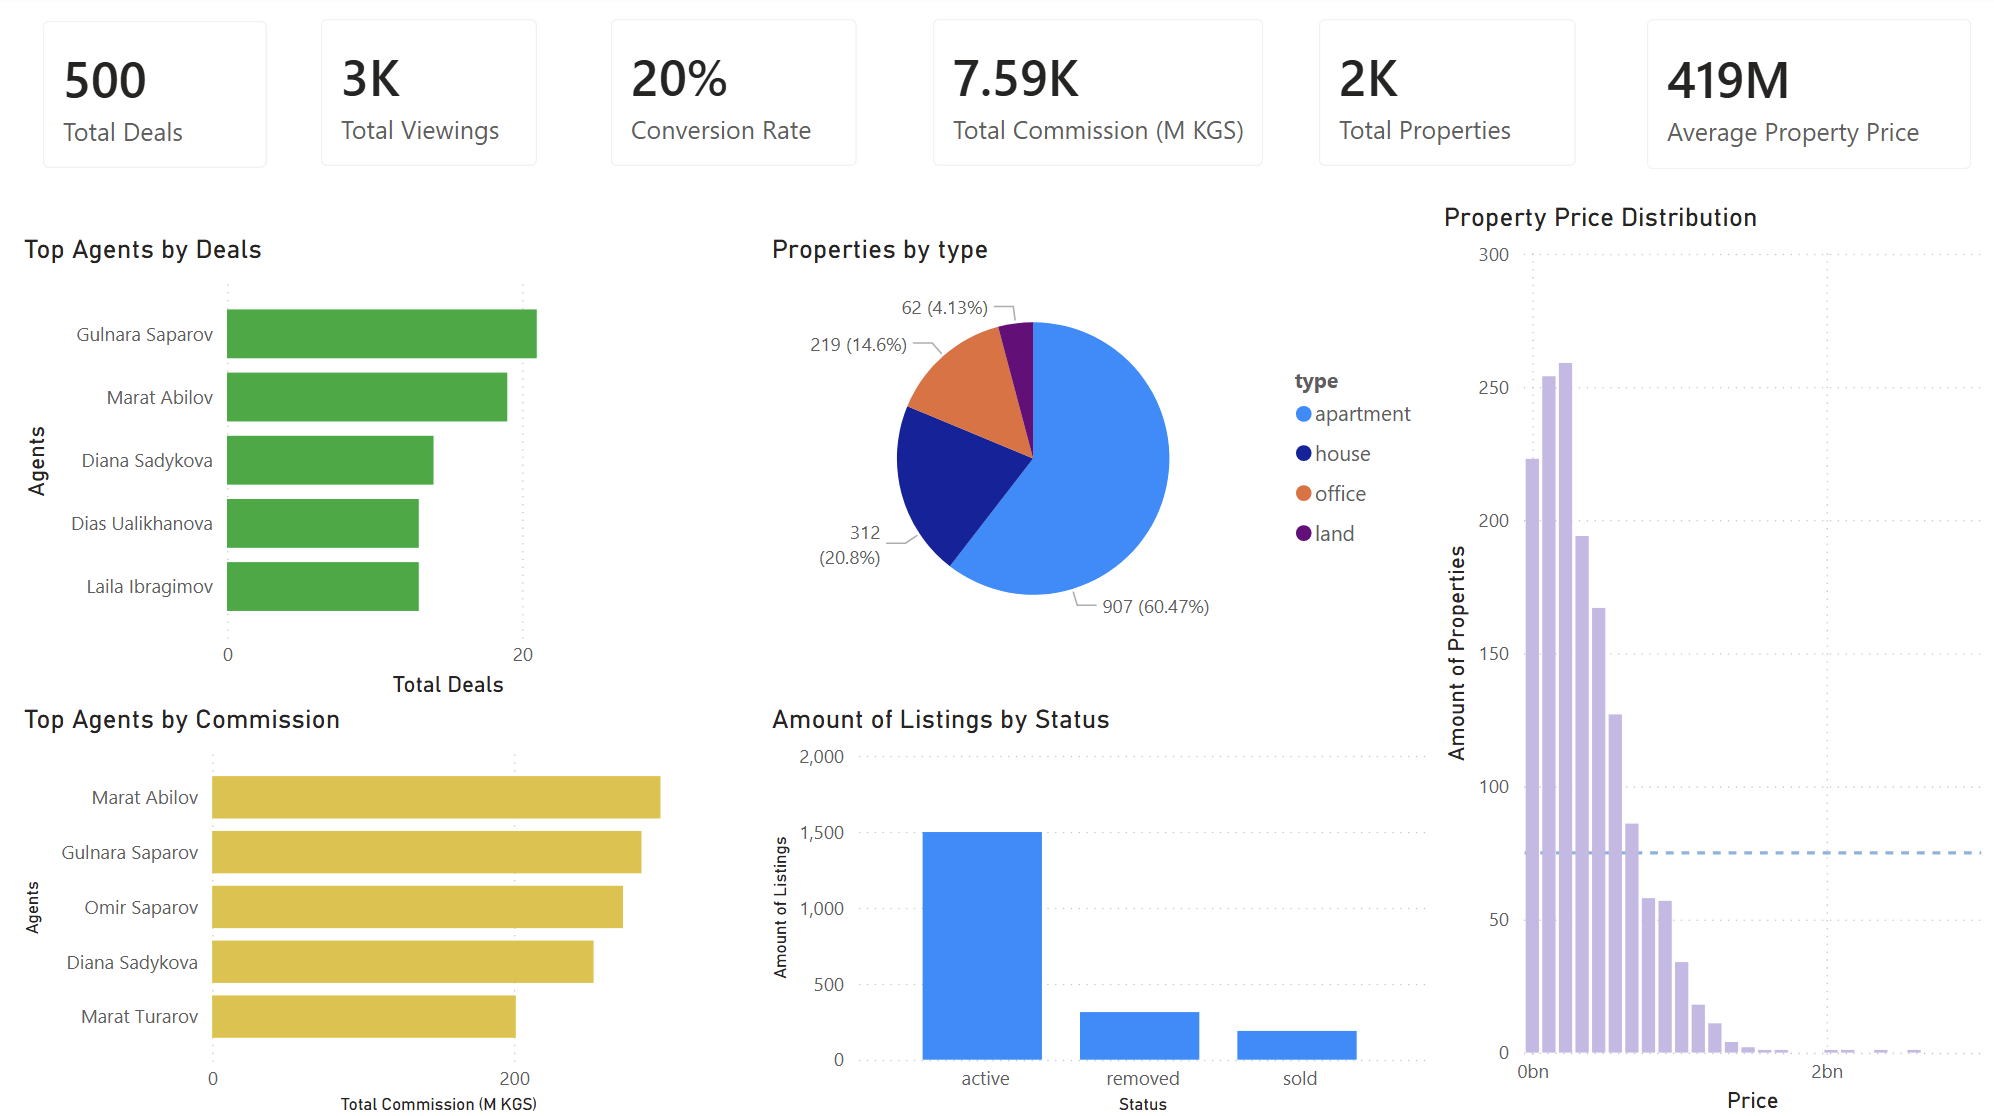

What the dashboard file says about the page in this screenshot:
{"tool":"powerbi","page":{"name":"Page 1","canvas":[1280,720],"ordinal":0},"visuals":[{"type":"cardVisual","fields":{"Data":["agents.Total Deals"]},"box":[17.1,1.4,177.1,128.6],"z":0},{"type":"cardVisual","fields":{"Data":["agents.Total Viewings"]},"box":[194.3,0,172.9,128.6],"z":1000},{"type":"cardVisual","fields":{"Data":["agents.Average Property Price"]},"box":[1038.6,0,241.4,130],"z":2000},{"type":"cardVisual","fields":{"Data":["agents.Total Commission"]},"box":[584.3,0,245.7,128.6],"z":3000},{"type":"clusteredBarChart","title":"Top Agents by Deals","fields":{"Category":["agents.full_name"],"Y":["agents.Total Deals"]},"box":[17.1,154.3,428.6,300],"z":4000},{"type":"clusteredBarChart","title":"Top Agents by Commission","fields":{"Category":["agents.full_name"],"Y":["agents.Total Commission (M KGS)"]},"box":[17.1,454.3,428.6,265.7],"z":5000},{"type":"pieChart","fields":{"Category":["properties.type"],"Y":["CountNonNull(properties.property_id)"]},"box":[492.9,154.3,427.1,267.1],"z":6000},{"type":"clusteredColumnChart","fields":{"Category":["listings.status"],"Y":["CountNonNull(listings.listing_id)"]},"box":[492.9,454.3,427.1,265.7],"z":7000},{"type":"clusteredColumnChart","title":"Property Price Distribution","fields":{"Y":["CountNonNull(properties.property_id)"],"Category":["properties.price (millions)"]},"box":[921.4,134.3,358.6,585.7],"z":8000},{"type":"cardVisual","fields":{"Data":["agents.Total Properties"]},"box":[830,0,198.6,128.6],"z":9000},{"type":"cardVisual","fields":{"Data":["agents.Conversion Rate"]},"box":[378.6,0,191.4,128.6],"z":10000}]}

Visuals, with their boxes in screenshot pixels (x1, y1, x2, y2), scaled from the page's 1280x720 canvas onto the 1994x1116 screenshot:
cardVisual - agents.Total Deals: bbox=[27, 2, 303, 202]
cardVisual - agents.Total Viewings: bbox=[303, 0, 572, 199]
cardVisual - agents.Average Property Price: bbox=[1618, 0, 1993, 202]
cardVisual - agents.Total Commission: bbox=[910, 0, 1293, 199]
"Top Agents by Deals" clusteredBarChart: bbox=[27, 239, 694, 704]
"Top Agents by Commission" clusteredBarChart: bbox=[27, 704, 694, 1115]
pieChart - properties.type x CountNonNull(properties.property_id): bbox=[768, 239, 1433, 653]
clusteredColumnChart - listings.status x CountNonNull(listings.listing_id): bbox=[768, 704, 1433, 1115]
"Property Price Distribution" clusteredColumnChart: bbox=[1435, 208, 1993, 1115]
cardVisual - agents.Total Properties: bbox=[1293, 0, 1602, 199]
cardVisual - agents.Conversion Rate: bbox=[590, 0, 888, 199]
